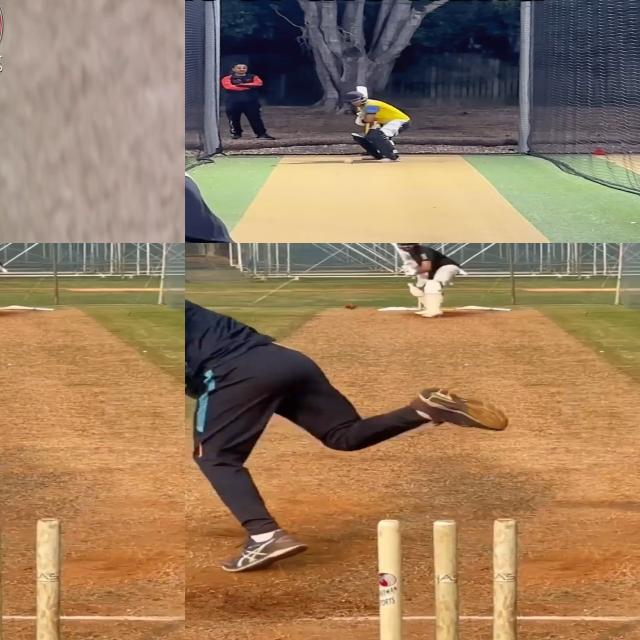Cricket ball: (344, 302, 358, 310), (343, 158, 353, 164)
Stumps: (369, 516, 522, 640), (0, 514, 61, 640)
